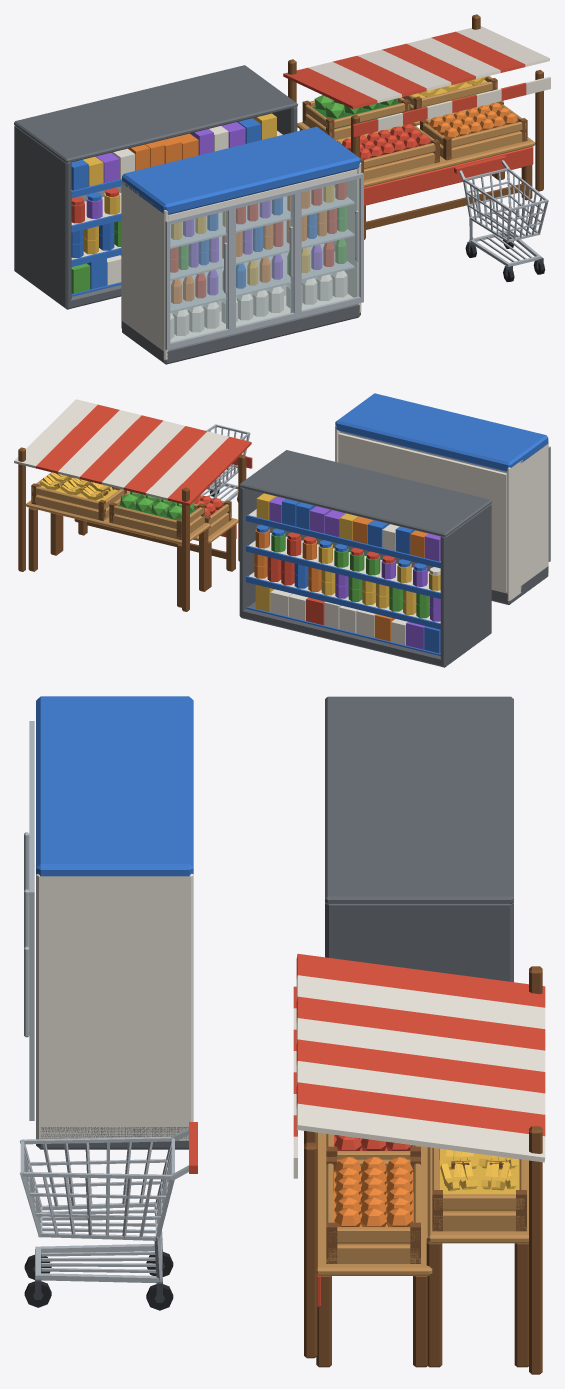
The model's file is low-poly-grocery-props.glb.
The picture shows the model from 3 angles, top to bottom: view 1: azimuth 30°, elevation 25°; view 2: azimuth 150°, elevation 25°; view 3: azimuth 270°, elevation 25°; orthographic projection. The views are drawn at different scales.
Visible parts, largest first — view 1: Fridge_Body, Shelf_Double_Body, Produce_Stand_Body, Door_1_Glass, Door_3_Glass, Door_2_Glass, Shopping_Cart_Body, Door_1, Door_2, Door_3; view 2: Shelf_Double_Body, Produce_Stand_Body, Fridge_Body, Shopping_Cart_Body, Door_1; view 3: Produce_Stand_Body, Fridge_Body, Shelf_Double_Body, Shopping_Cart_Body, Door_3.
Boxes of the visible parts, bbox=[...] form: Fridge_Body: bbox=[121, 126, 361, 364]; Shelf_Double_Body: bbox=[14, 65, 297, 309]; Produce_Stand_Body: bbox=[283, 14, 550, 239]; Door_1_Glass: bbox=[170, 211, 228, 342]; Door_3_Glass: bbox=[302, 179, 359, 310]; Door_2_Glass: bbox=[236, 195, 293, 326]; Shopping_Cart_Body: bbox=[454, 155, 548, 275]; Door_1: bbox=[165, 205, 232, 350]; Door_2: bbox=[231, 189, 298, 333]; Door_3: bbox=[297, 172, 363, 317]; Shelf_Double_Body: bbox=[239, 450, 491, 667]; Produce_Stand_Body: bbox=[14, 399, 252, 611]; Fridge_Body: bbox=[335, 393, 548, 604]; Shopping_Cart_Body: bbox=[200, 424, 250, 501]; Door_1: bbox=[548, 446, 550, 561]; Produce_Stand_Body: bbox=[293, 954, 545, 1374]; Fridge_Body: bbox=[36, 696, 193, 1149]; Shelf_Double_Body: bbox=[325, 696, 513, 982]; Shopping_Cart_Body: bbox=[19, 1122, 197, 1298]; Door_3: bbox=[24, 835, 34, 1120].
Size of the model in its own units: 21.72 by 7 by 11.67.
